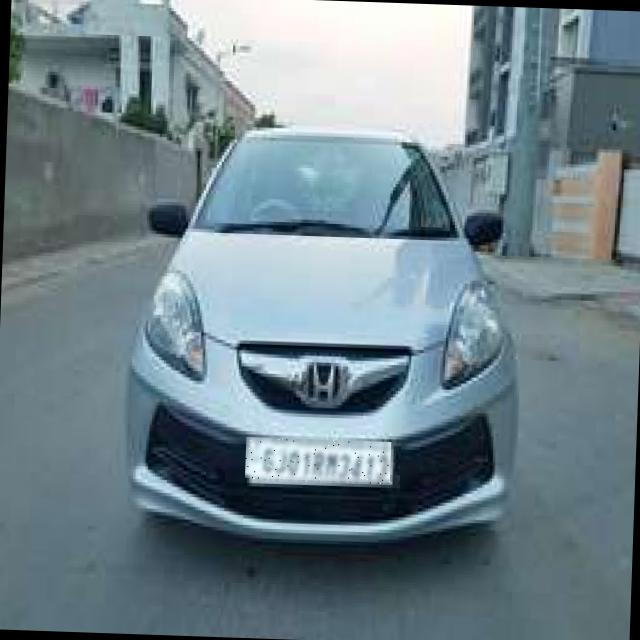Plate: (246, 438, 392, 485)
